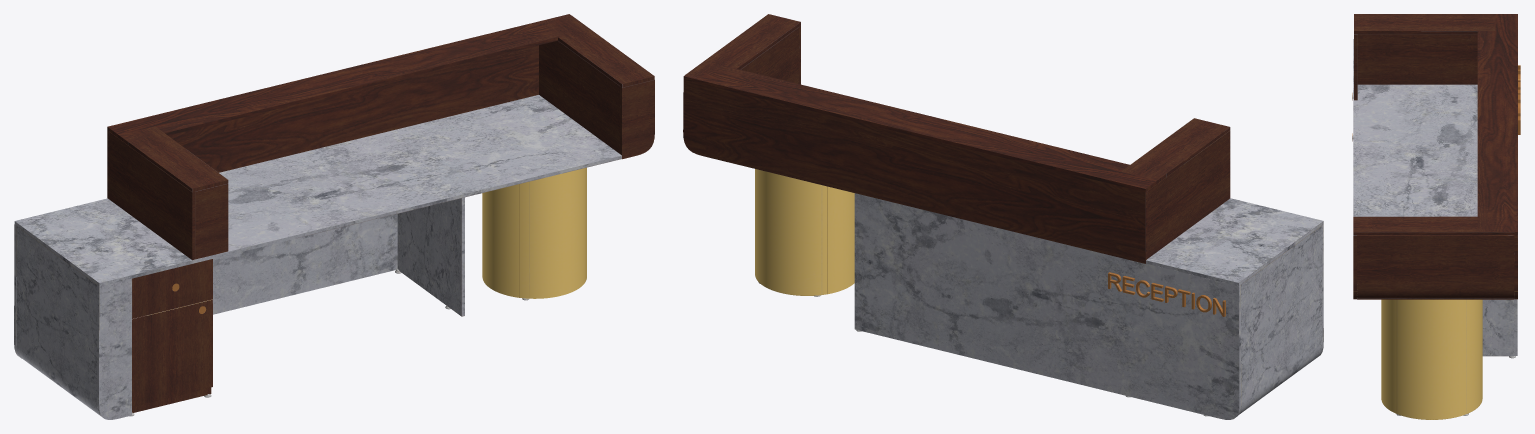
File: dezy3d.glb
3 renders of one model, left to right at view 1: azimuth 30°, elevation 25°; view 2: azimuth 150°, elevation 25°; view 3: azimuth 270°, elevation 25°, orthographic. The views are drawn at different scales.
Parts seen in each view (by area): view 1: ASSET_Joined; view 2: ASSET_Joined; view 3: ASSET_Joined.
Boxes of the visible parts, left/top/right/bottom form: ASSET_Joined: left=14, top=14, right=654, bottom=419; ASSET_Joined: left=683, top=14, right=1323, bottom=419; ASSET_Joined: left=1352, top=14, right=1520, bottom=419.
Size of the model in its own units: 3.07 by 1.13 by 0.8322.
Materials: 1 (1 with a texture image).
